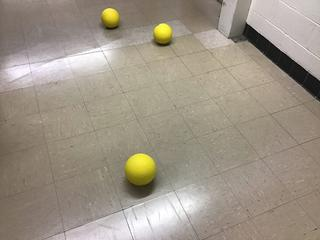power_cell: (125, 153, 154, 187), (101, 6, 121, 30), (154, 22, 175, 44)
